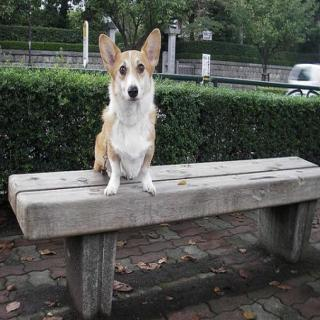dog: (96, 31, 170, 108)
nose: (125, 82, 140, 99)
